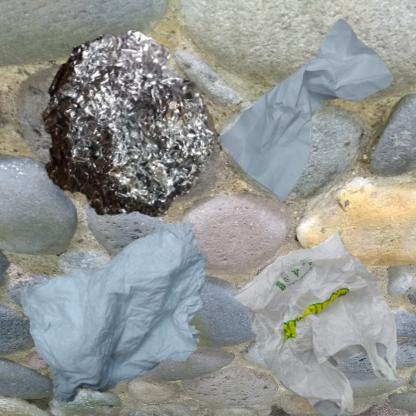aluminio: (10, 10, 248, 262)
bolsa: (213, 213, 416, 416)
papel: (10, 213, 262, 416), (213, 10, 400, 216)
